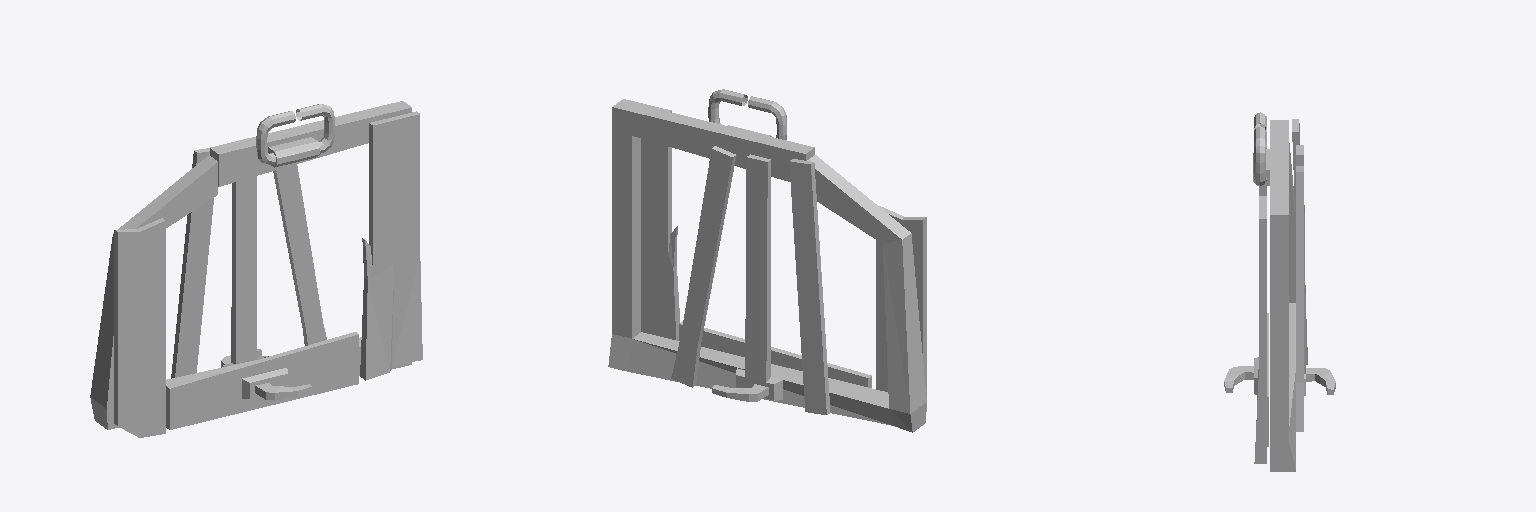
The model's file is SM_Door_001.obj.
3 renders of one model, left to right at view 1: azimuth 30°, elevation 25°; view 2: azimuth 150°, elevation 25°; view 3: azimuth 270°, elevation 25°, orthographic.
Visible parts, largest first — view 1: SM_Door_001; view 2: SM_Door_001; view 3: SM_Door_001.
Part boxes in pixels (x1,y1,x2,y2): SM_Door_001: (90,101,422,437); SM_Door_001: (608,89,926,432); SM_Door_001: (1224,112,1335,471).
Size of the model in its own units: 19.9 by 17.99 by 6.25.